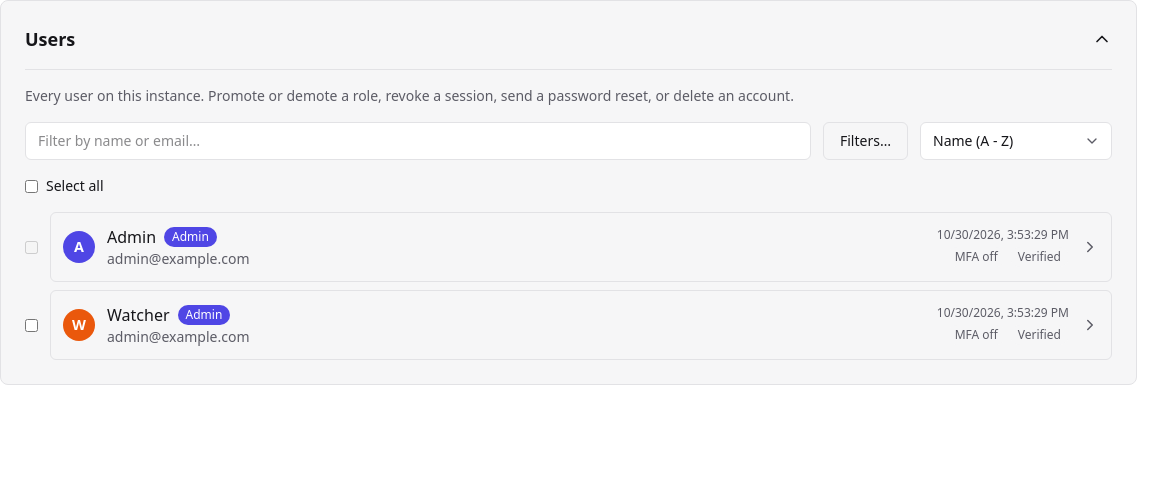
Scenario: UsersPanel › shows the bulk action bar only once something is selected, and Clear empties it
The image size is (1152, 482).
expect the text "Watcher" is shown: met, box [107, 303, 170, 327]
expect the text "1 selected" is not shown: met
Click the checkbox named "Select Watcher": (32, 325) [25, 318, 38, 332]
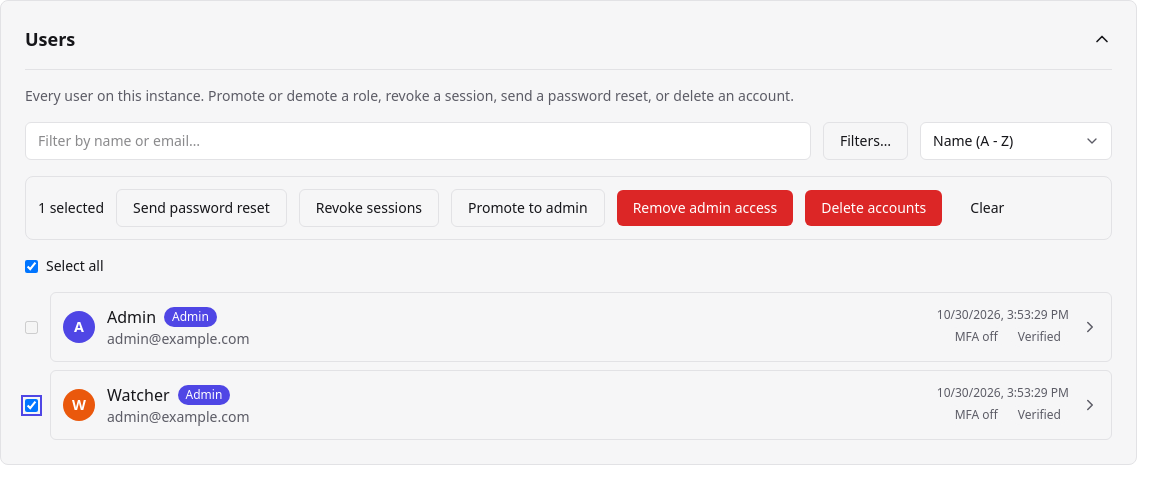
expect the text "1 selected" is shown: met, box [38, 198, 104, 218]
Click the button "Clear": (987, 208) [954, 190, 1020, 226]
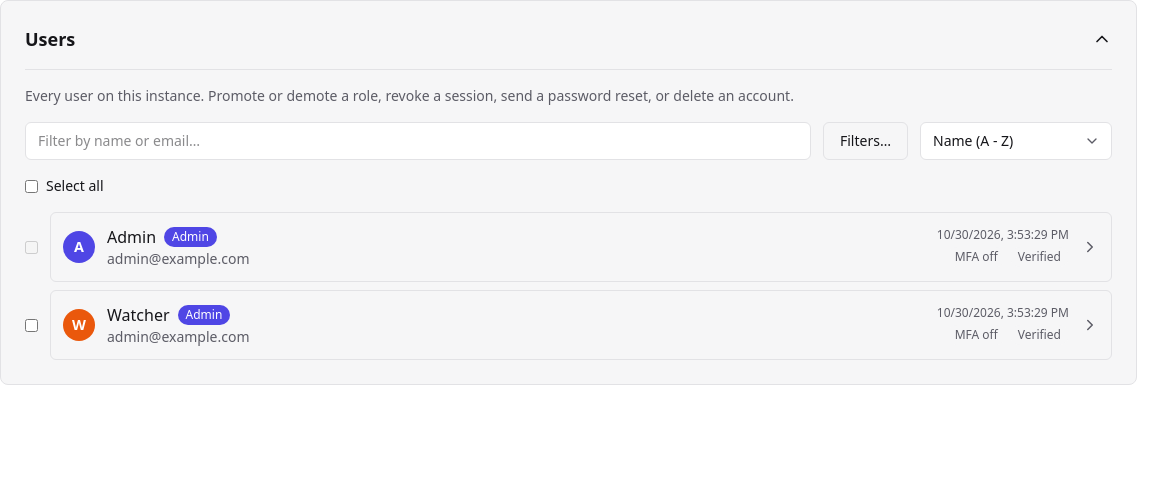
expect the checkbox named "Select Watcher" is not checked: met, box [25, 318, 38, 332]
expect the text "1 selected" is gone: met
